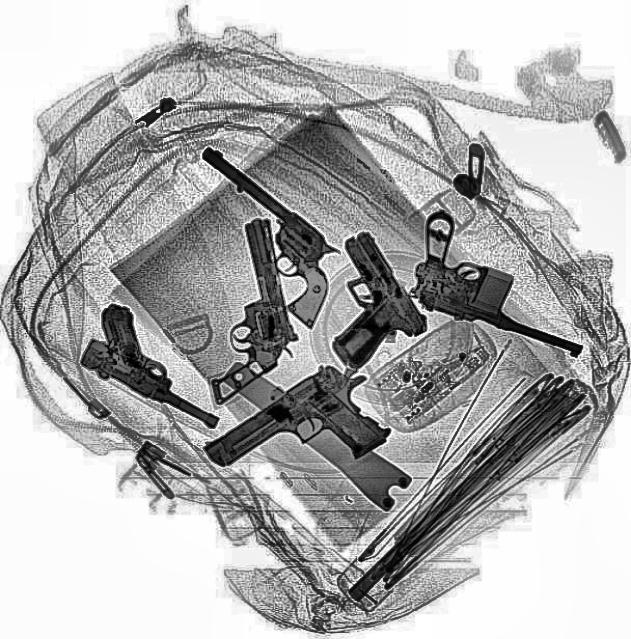Gun: (152, 146, 366, 328), (198, 348, 404, 524), (394, 206, 613, 360), (177, 213, 307, 405), (71, 298, 249, 436), (283, 227, 431, 373)
